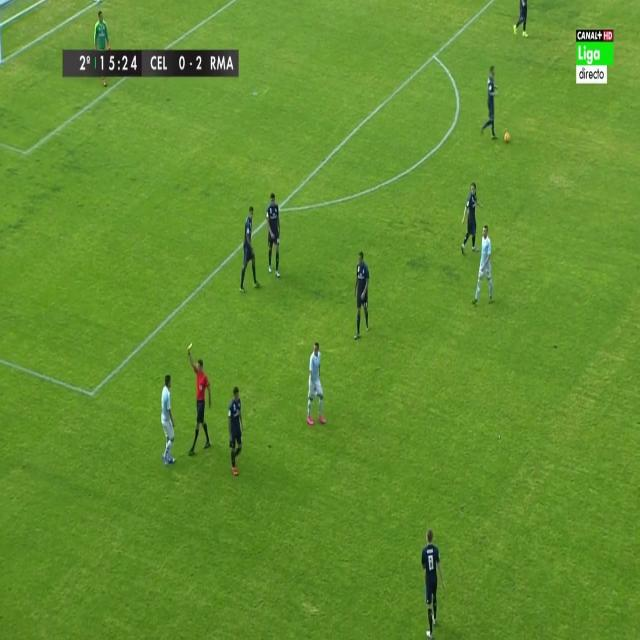Ball: (502, 128, 512, 147)
Goalkeeper: (94, 9, 112, 54)
Player: (420, 528, 448, 638), (238, 203, 261, 296), (471, 220, 495, 308), (306, 342, 330, 426), (264, 189, 284, 283), (226, 385, 246, 478), (352, 250, 371, 346), (459, 182, 483, 254), (478, 65, 501, 140), (159, 374, 177, 469), (511, 0, 530, 36)
Referee: (185, 342, 213, 460)
